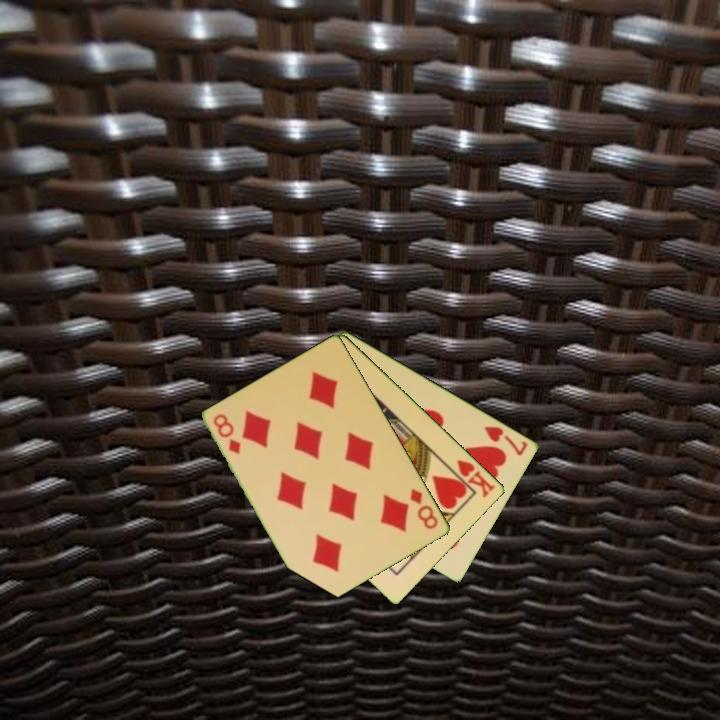7h: (481, 422, 531, 459)
8d: (407, 485, 441, 532), (210, 410, 244, 457)
Kh: (445, 456, 498, 501)
